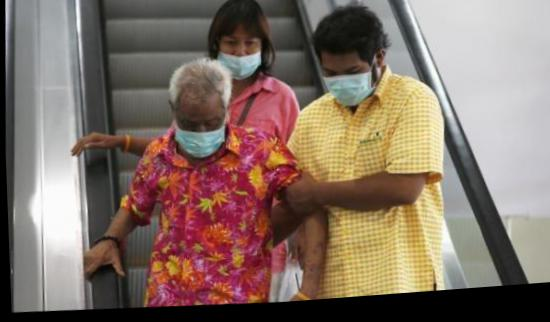OK: (319, 54, 380, 116), (176, 109, 226, 161)
WRONG: (219, 33, 264, 82)
